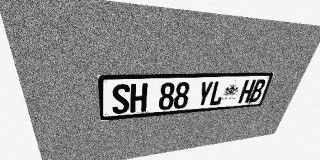8: (158, 82, 176, 110), (173, 82, 191, 109)
B: (248, 79, 267, 102)
H: (130, 83, 148, 113), (238, 80, 256, 103)
L: (208, 81, 227, 106)
S: (112, 84, 130, 114)
Y: (195, 81, 214, 107)
